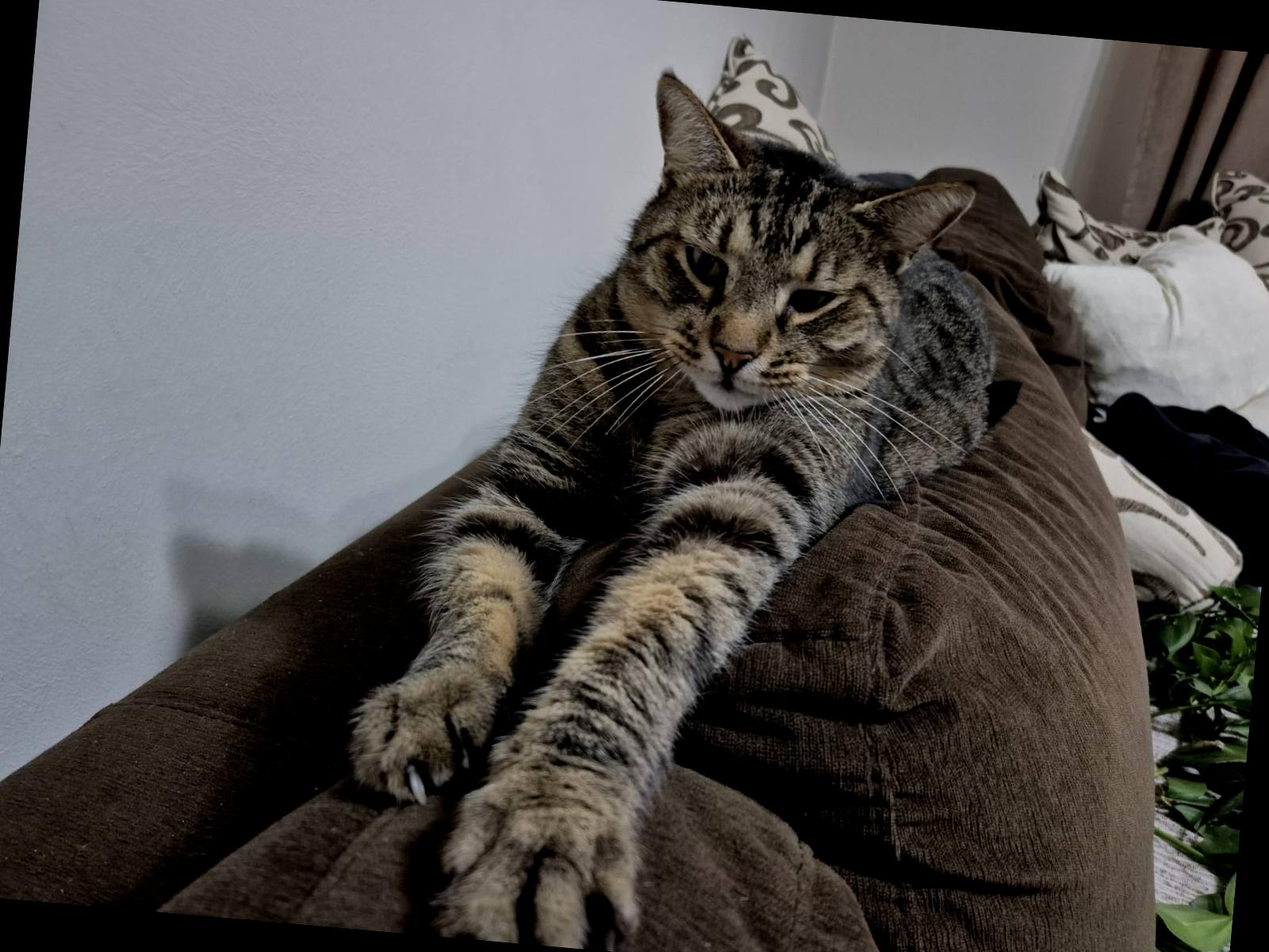macka: (328, 48, 1020, 952)
